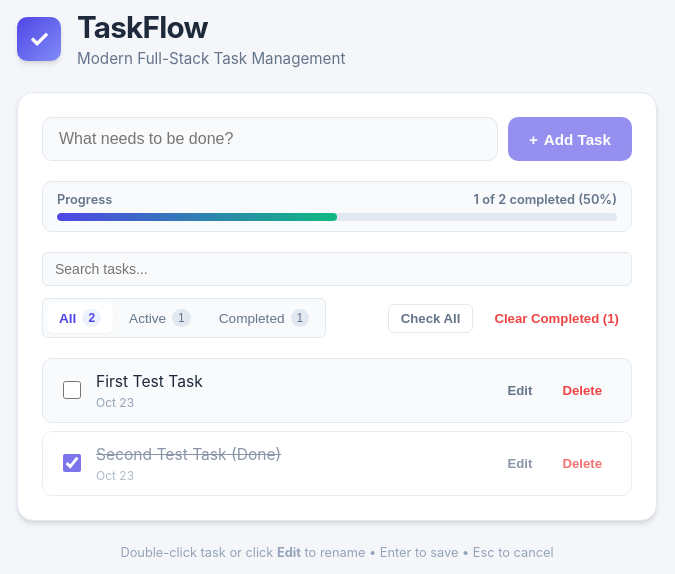
Test: TaskFlow App Component › searches and filters todos dynamically by query
Expected: the text "First Test Task" is shown, [96,372,203,391]
Type "Second" into the search field with placeholder "Search tasks...".
click(337, 269); type("Second")  # box [42,252,632,286]
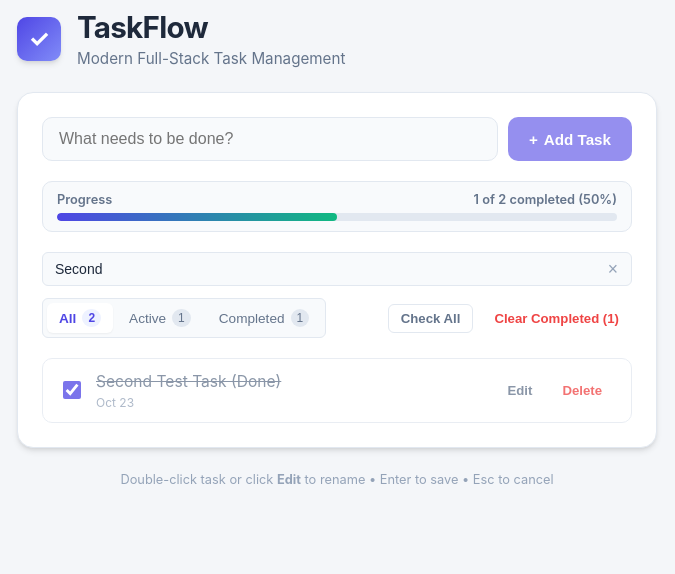
Expected: the text "Second Test Task (Done)" is shown, [96,372,281,391]
Now the text "First Test Task" is gone
